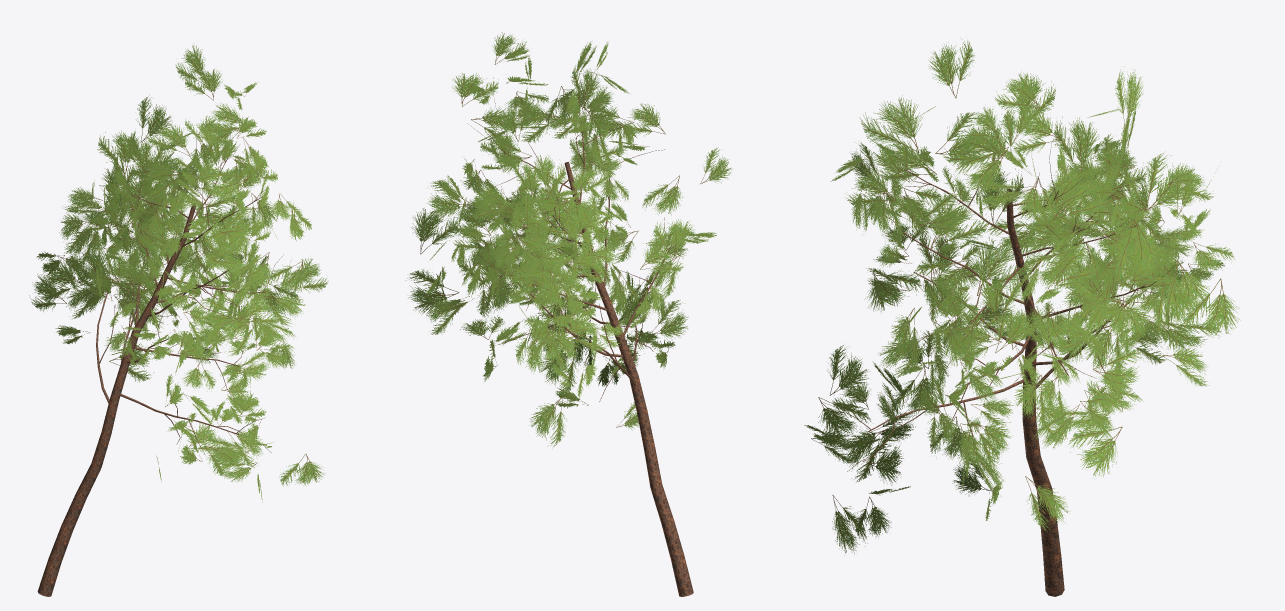
The model's file is AP4_AleppoPine_Windswept_9m.glb.
3 renders of one model, left to right at view 1: azimuth 30°, elevation 25°; view 2: azimuth 150°, elevation 25°; view 3: azimuth 270°, elevation 25°, orthographic. The views are drawn at different scales.
Visible parts, largest first — view 1: AP4_leaves, AP4_wood; view 2: AP4_leaves, AP4_wood; view 3: AP4_leaves, AP4_wood.
Part boxes in pixels (box(x1,y1,x2,y2)): AP4_leaves: box(29, 45, 328, 502); AP4_wood: box(37, 125, 283, 596); AP4_leaves: box(406, 32, 731, 446); AP4_wood: box(454, 74, 693, 596); AP4_leaves: box(804, 38, 1240, 554); AP4_wood: box(823, 142, 1175, 596).
Bounding box in the file's own units: 5.14 × 9.04 × 6.08.
Materials: 2 (2 with a texture image).
